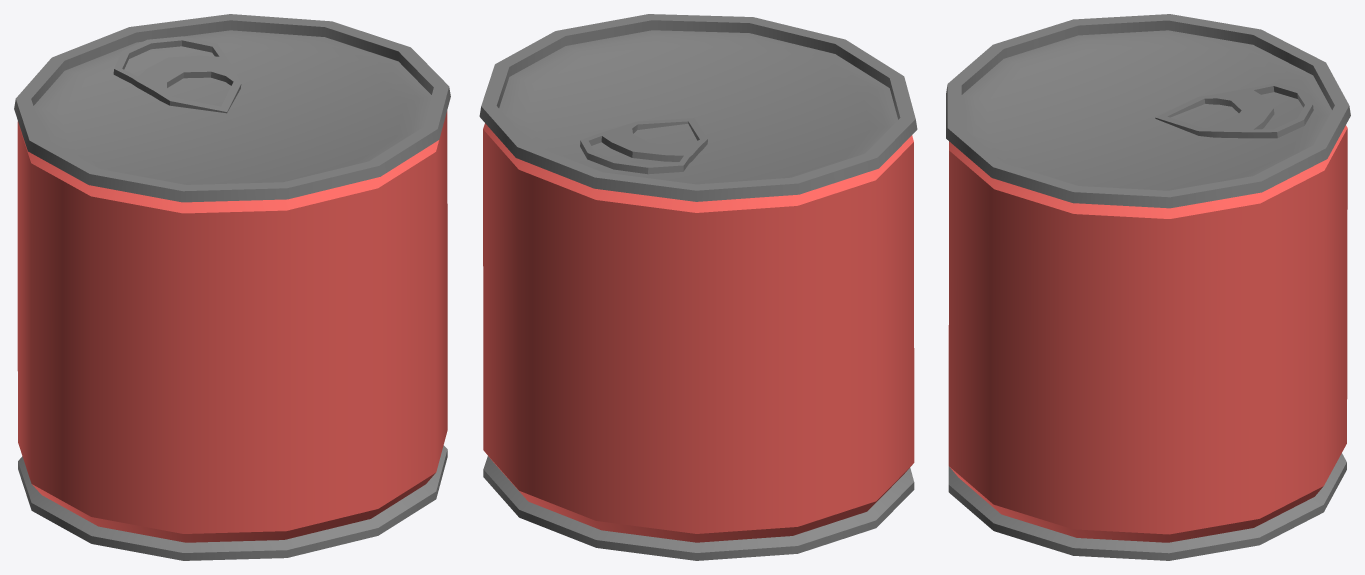
The model's file is PowerUpTiro.fbx.
3 views of the same model, side by side, from view 1: azimuth 30°, elevation 25°; view 2: azimuth 150°, elevation 25°; view 3: azimuth 270°, elevation 25° (orthographic).
Parts seen in each view (by area): view 1: Can Washer.001; view 2: Can Washer.001; view 3: Can Washer.001.
Boxes of the visible parts, <box> form: Can Washer.001: <box>14,14,450,560</box>; Can Washer.001: <box>479,14,917,560</box>; Can Washer.001: <box>946,14,1350,560</box>.
Bounding box in the file's own units: 15 × 13.86 × 13.9.
